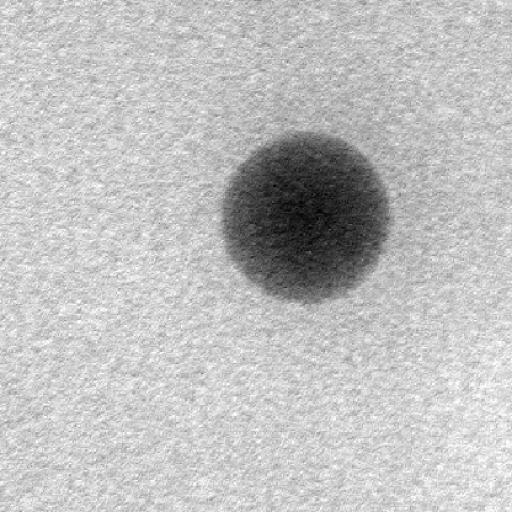Nanoparticles: (213, 126, 409, 312)
